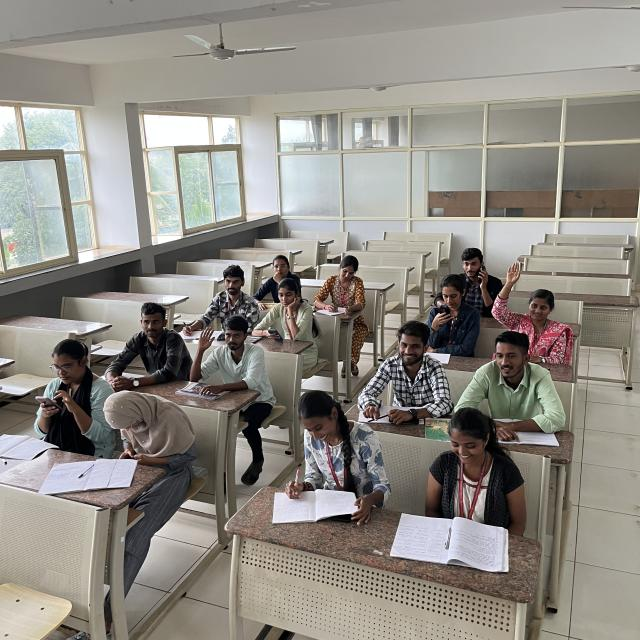Hand Rising: (187, 306, 265, 405), (491, 253, 567, 346)
Reading: (404, 407, 514, 551)
Using Phone: (88, 377, 206, 472), (30, 338, 116, 450), (253, 276, 319, 354), (423, 271, 482, 351)
Writing: (261, 381, 376, 537), (176, 260, 257, 336), (307, 245, 378, 325)
